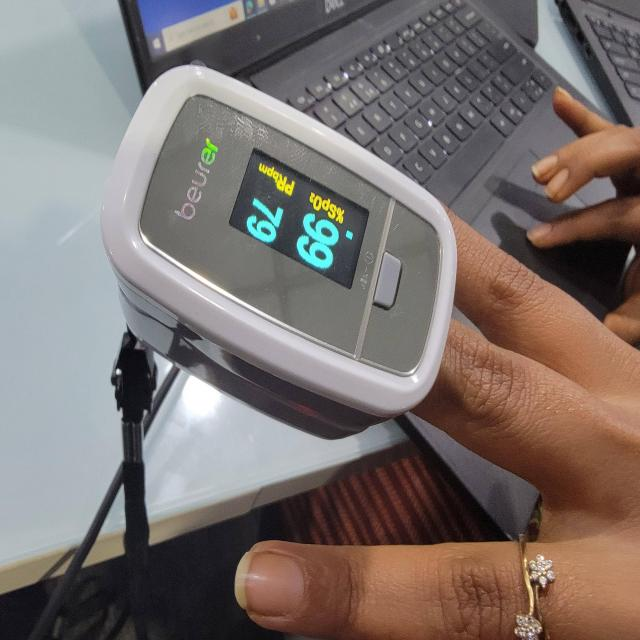spo2: (100, 65, 458, 441)
